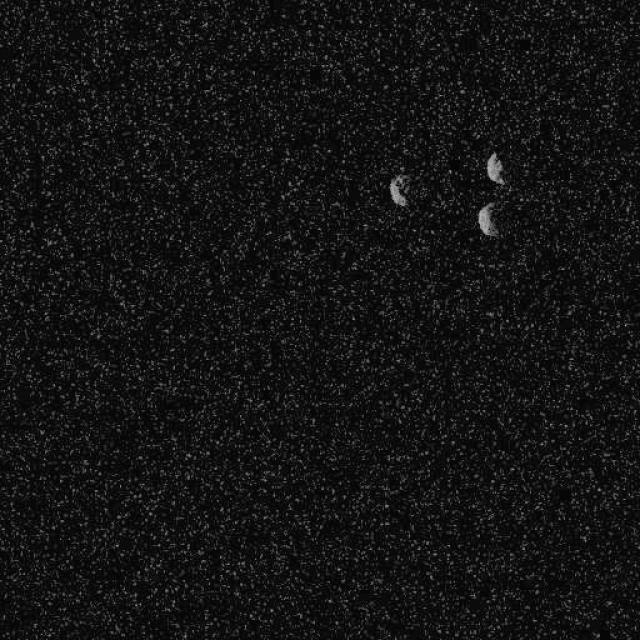D2: (476, 200, 500, 238), (388, 172, 412, 208), (485, 150, 505, 185)
